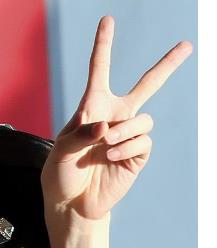front: (38, 12, 195, 216)
